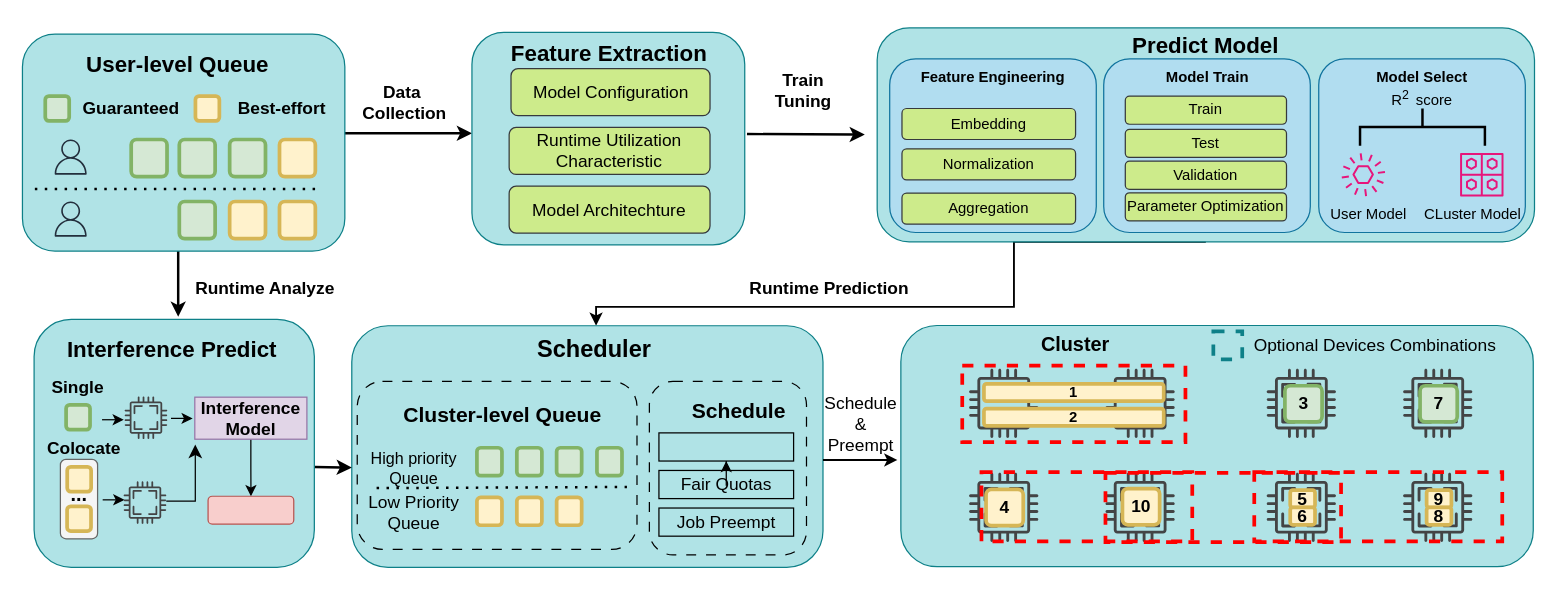
Some shapes in this 1561 by 589 pixel diagram are drawn without their labels. Each missing label, with the centre of its shape:
Decay: point 250,509
Job Sorting: point 726,446
